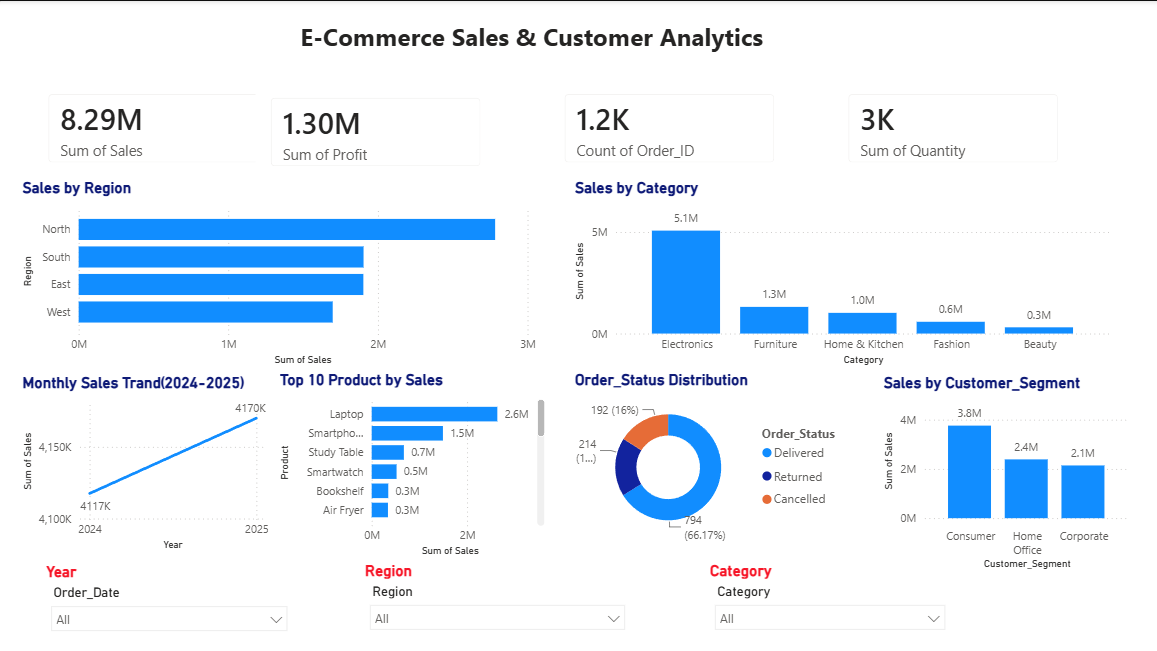

Layout of this report page (visuals, bound fields, positions):
{"tool":"powerbi","page":{"name":"Page 1","canvas":[1280,720],"ordinal":0},"visuals":[{"type":"cardVisual","fields":{"Data":["Sum(ecommerce_analytics ecommerce_sales.Sales)"]},"box":[22.5,90,265,110],"z":0},{"type":"cardVisual","fields":{"Data":["Sum(ecommerce_analytics ecommerce_sales.Profit)"]},"box":[305,90,265,110],"z":3},{"type":"cardVisual","fields":{"Data":["CountNonNull(ecommerce_analytics ecommerce_sales.Order_ID)"]},"box":[587.5,90,265,110],"z":4},{"type":"cardVisual","fields":{"Data":["Sum(ecommerce_analytics ecommerce_sales.Quantity)"]},"box":[870,90,265,110],"z":5},{"type":"clusteredBarChart","title":"Sales by Region","fields":{"Category":["ecommerce_analytics ecommerce_sales.Region"],"Y":["Sum(ecommerce_analytics ecommerce_sales.Sales)"]},"box":[47.5,200,380,210],"z":6},{"type":"clusteredColumnChart","title":" Sales by Category","fields":{"Category":["ecommerce_analytics ecommerce_sales.Category"],"Y":["Sum(ecommerce_analytics ecommerce_sales.Sales)"]},"box":[605,200,380,210],"z":7},{"type":"lineChart","title":"Monthly Sales Trand(2024-2025)","fields":{"Category":["ecommerce_analytics ecommerce_sales.Order_Date.Variation.Date Hierarchy.Year","ecommerce_analytics ecommerce_sales.Order_Date.Variation.Date Hierarchy.Month"],"Y":["Sum(ecommerce_analytics ecommerce_sales.Sales)"]},"box":[10,406.2,380,210],"z":9},{"type":"clusteredBarChart","title":"Top 10 Product by Sales","fields":{"Category":["ecommerce_analytics ecommerce_sales.Product"],"Y":["Sum(ecommerce_analytics ecommerce_sales.Sales)"]},"box":[280,396.2,380,210],"z":10},{"type":"donutChart","title":" Order_Status Distribution","fields":{"Category":["ecommerce_analytics ecommerce_sales.Order_Status"],"Y":["CountNonNull(ecommerce_analytics ecommerce_sales.Order_ID)"]},"box":[60,517.5,280,116.2],"z":11},{"type":"clusteredColumnChart","title":"Sales by Customer_Segment","fields":{"Category":["ecommerce_analytics ecommerce_sales.Customer_Segment"],"Y":["Sum(ecommerce_analytics ecommerce_sales.Sales)"]},"box":[407.5,517.5,280,131.2],"z":12},{"type":"slicer","title":"Year","fields":{"Values":["ecommerce_analytics ecommerce_sales.Order_Date"]},"box":[47.5,556.2,280,155],"z":13},{"type":"slicer","title":"Region","fields":{"Values":["ecommerce_analytics ecommerce_sales.Region"]},"box":[387.5,556.2,300,145],"z":14},{"type":"slicer","title":"Category","fields":{"Values":["ecommerce_analytics ecommerce_sales.Category"]},"box":[737.5,556.2,272.5,143.8],"z":15},{"type":"textbox","box":[302.5,16.2,537.5,51.2],"z":16}]}

Visuals, with their boxes in screenshot pixels (x1, y1, x2, y2), scaled from the page's 1280x720 canvas onto the 1157x651 screenshot:
cardVisual - Sum(ecommerce_analytics ecommerce_sales.Sales): box(20, 81, 260, 181)
cardVisual - Sum(ecommerce_analytics ecommerce_sales.Profit): box(276, 81, 515, 181)
cardVisual - CountNonNull(ecommerce_analytics ecommerce_sales.Order_ID): box(531, 81, 771, 181)
cardVisual - Sum(ecommerce_analytics ecommerce_sales.Quantity): box(786, 81, 1026, 181)
"Sales by Region" clusteredBarChart: box(43, 181, 386, 371)
" Sales by Category" clusteredColumnChart: box(547, 181, 890, 371)
"Monthly Sales Trand(2024-2025)" lineChart: box(9, 367, 353, 557)
"Top 10 Product by Sales" clusteredBarChart: box(253, 358, 597, 548)
" Order_Status Distribution" donutChart: box(54, 468, 307, 573)
"Sales by Customer_Segment" clusteredColumnChart: box(368, 468, 621, 587)
"Year" slicer: box(43, 503, 296, 643)
"Region" slicer: box(350, 503, 621, 634)
"Category" slicer: box(667, 503, 913, 633)
textbox: box(273, 15, 759, 61)
